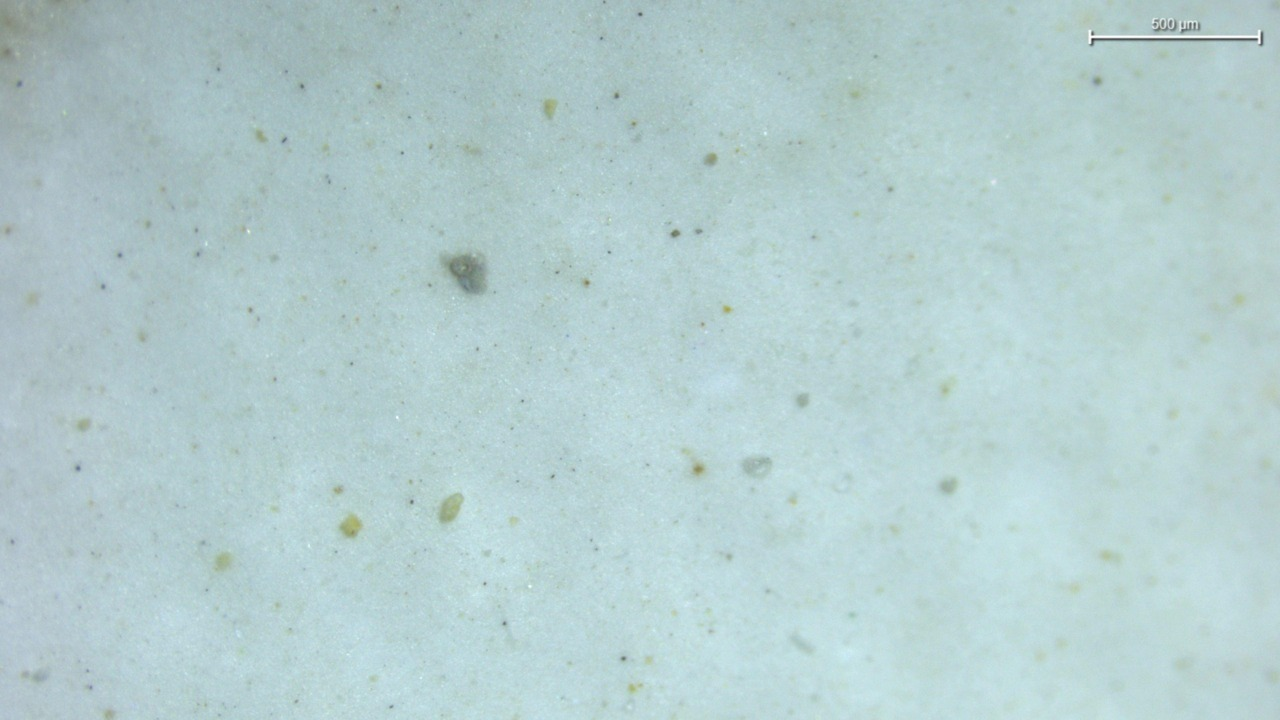microplastic_fragment: (446, 253, 487, 293)
